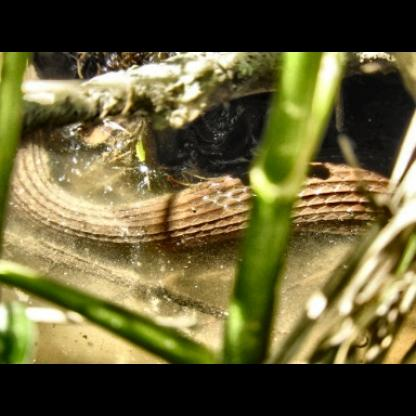Snake: (3, 60, 413, 356), (5, 131, 416, 255)
